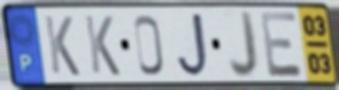0: (132, 13, 166, 78)
E: (257, 9, 306, 79)
J: (175, 11, 211, 79), (227, 8, 260, 81)
K: (82, 14, 122, 79), (42, 14, 82, 79)
